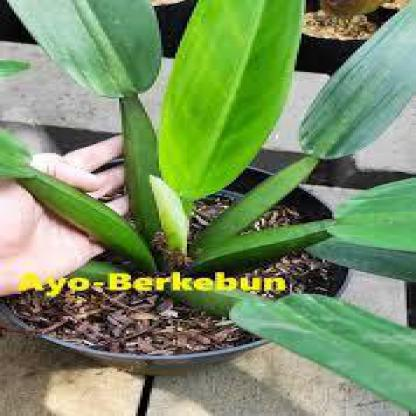Melati: (27, 51, 243, 319), (287, 144, 415, 383)
